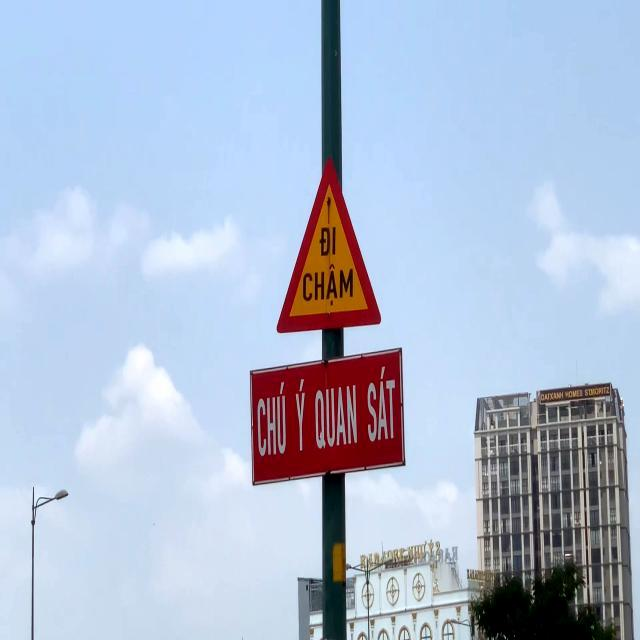Di cham: (276, 154, 382, 336)
